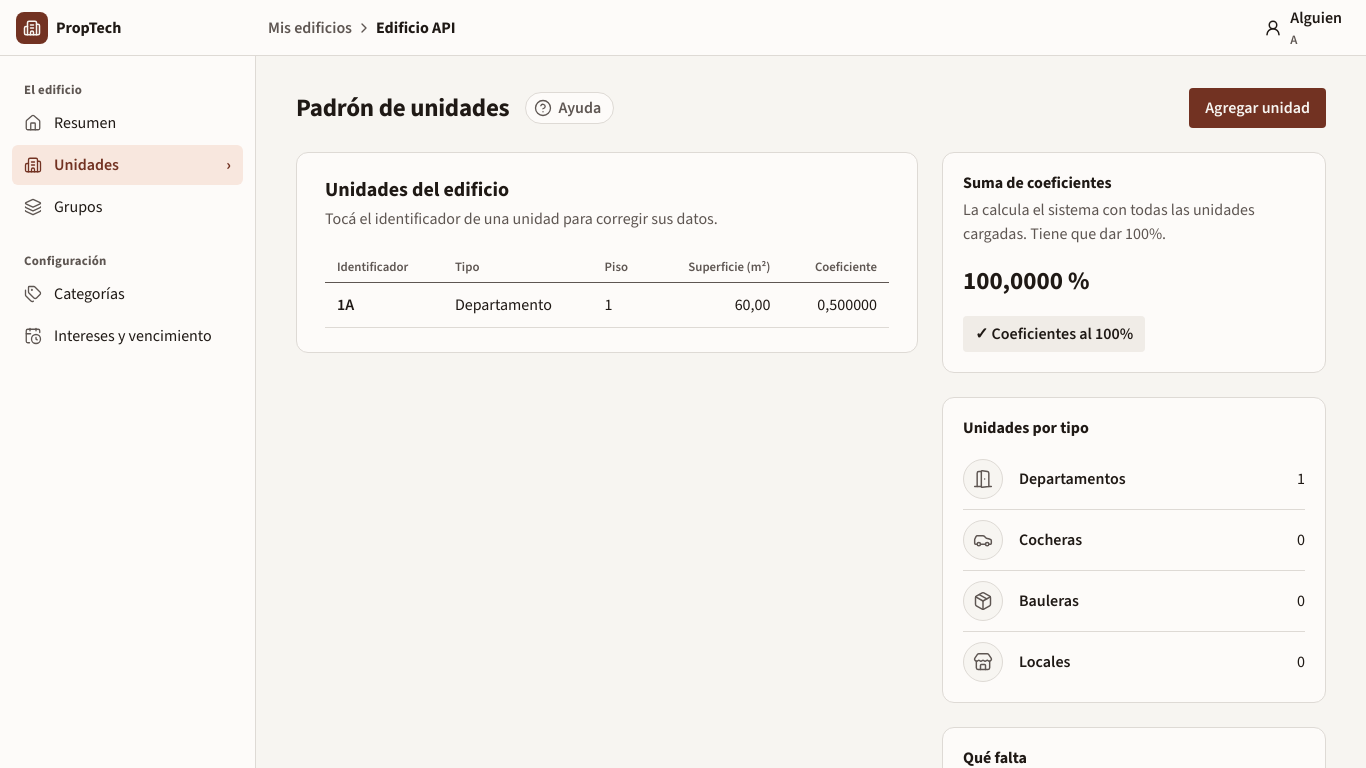
Scenario: PantallaPadron › tocar una fila abre el panel con los datos de esa unidad (edición)
The image size is (1366, 768).
Click the button "1A".
click(346, 305)  # box [337,295,354,314]
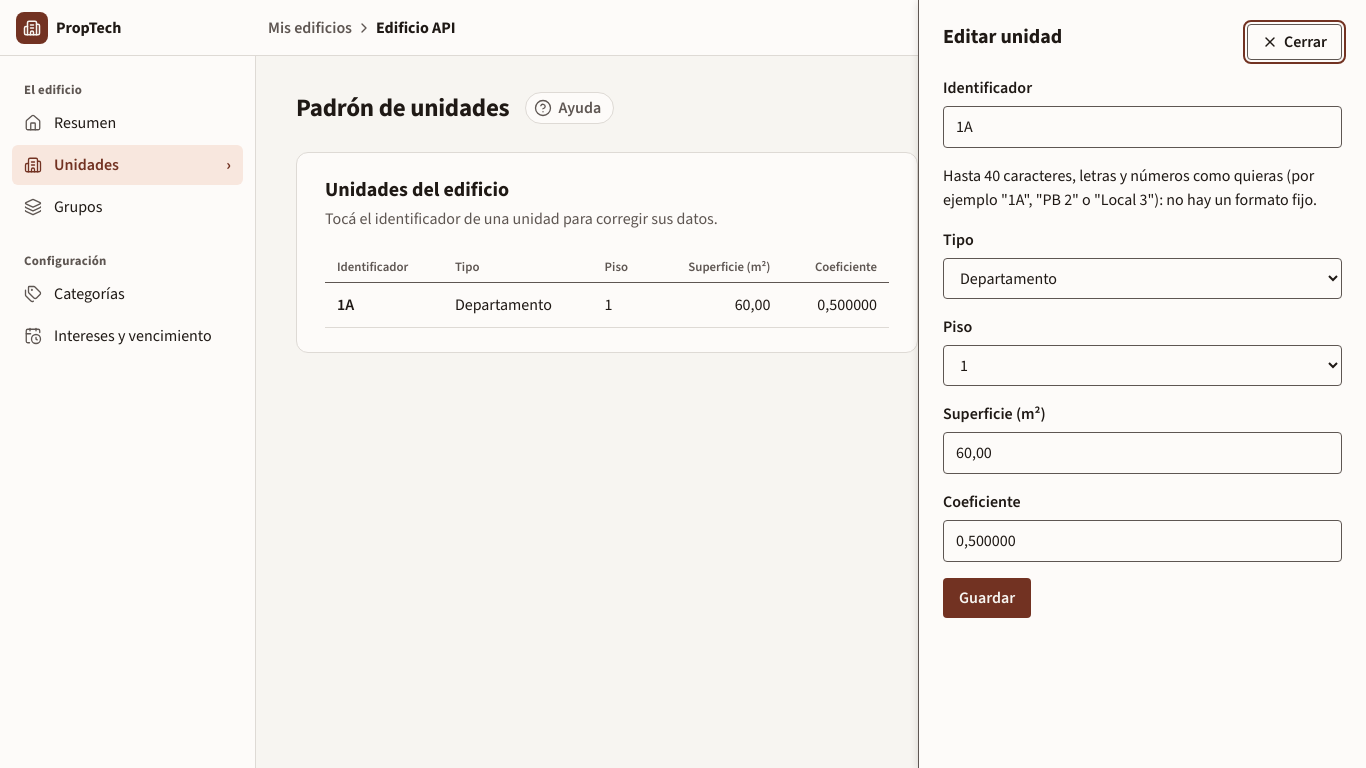
Result: the field labelled "Identificador" holds "1A" at [943,106,1342,148]
Result: the field labelled "Superficie (m²)" holds "60,00" at [943,432,1342,474]
Result: the field labelled "Coeficiente" holds "0,500000" at [943,520,1342,562]
